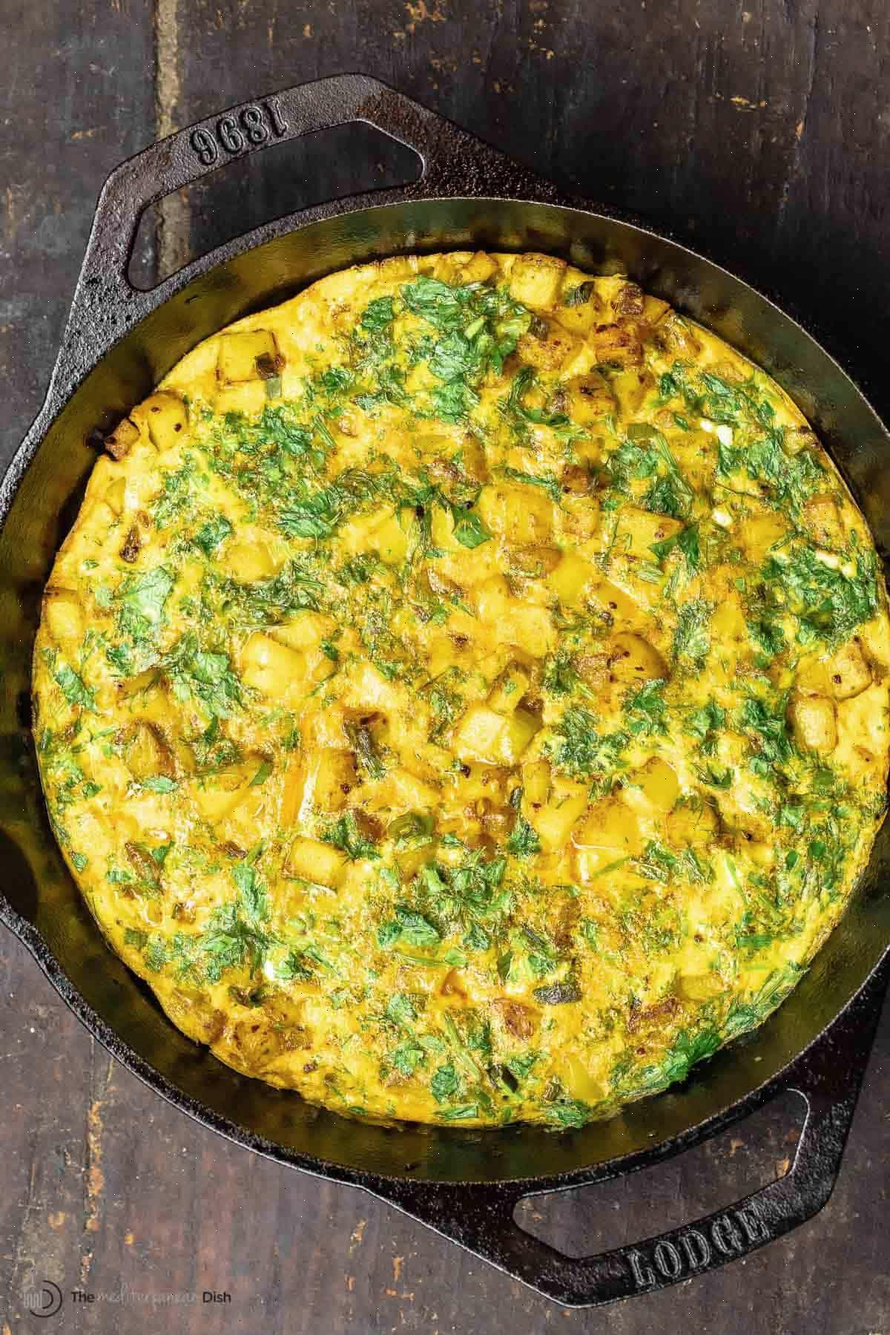omelette: (38, 257, 890, 1027)
